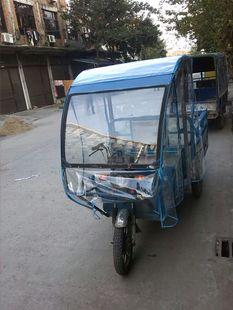tricycle: (49, 58, 212, 283)
